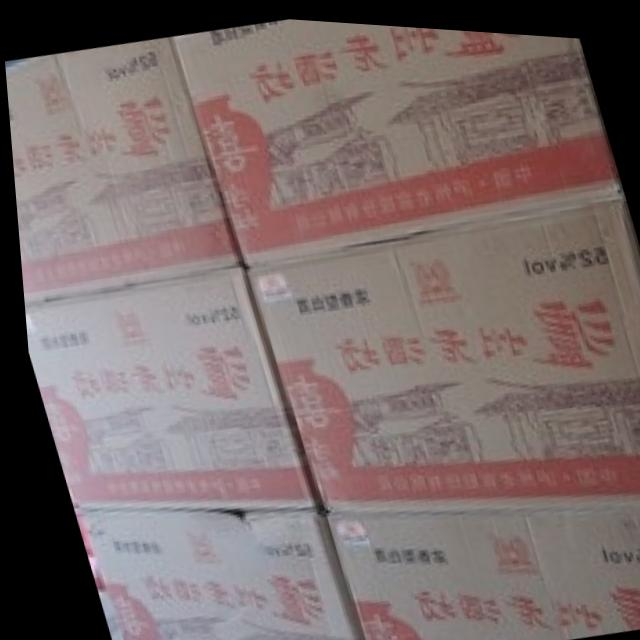box: (240, 183, 640, 506), (170, 15, 621, 260), (20, 263, 313, 508), (4, 34, 240, 304), (314, 495, 640, 640), (68, 506, 355, 640)
